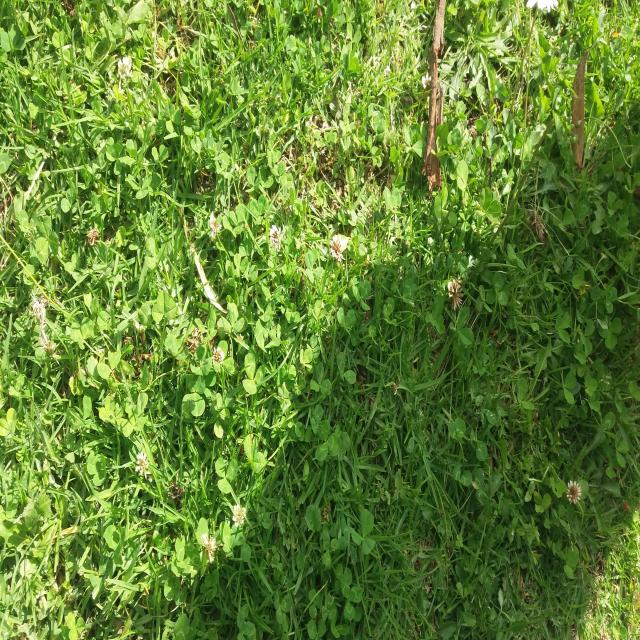Four Leaf Clover: (182, 373, 205, 419)
